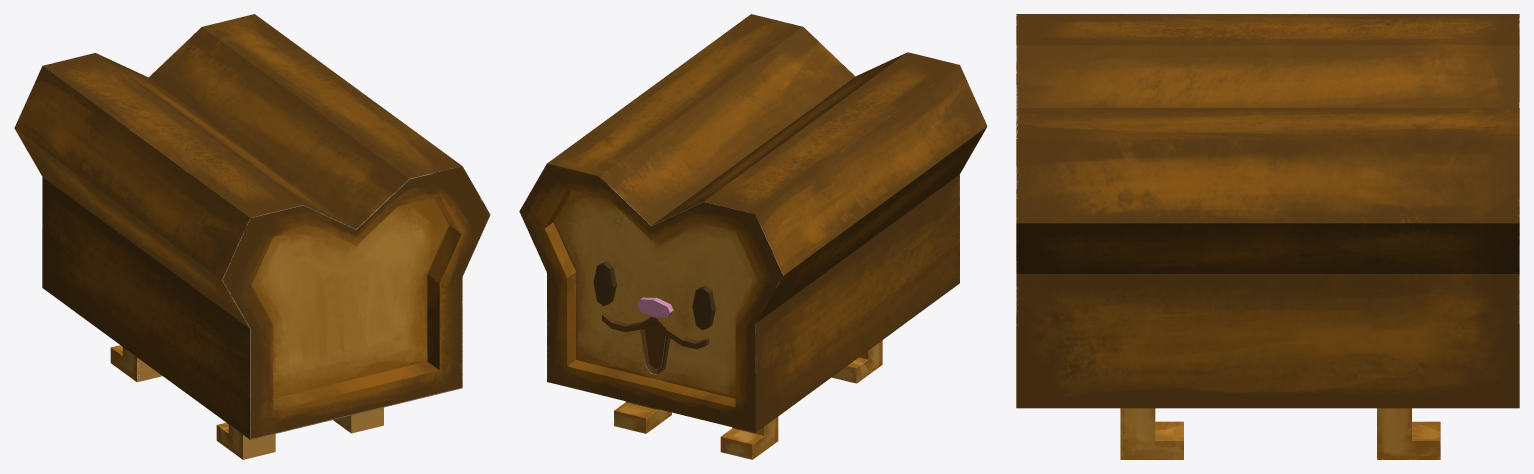
File: loafdog.fbx
3 views of the same model, side by side, from view 1: azimuth 30°, elevation 25°; view 2: azimuth 150°, elevation 25°; view 3: azimuth 270°, elevation 25° (orthographic). The views are drawn at different scales.
Visible parts, largest first — view 1: Bread, Legs; view 2: Bread, Legs, Mouth, Eyes, Nose; view 3: Bread, Legs.
Boxes of the visible parts, x1,y1,x2,y2 form: Bread: (14, 14, 490, 439); Legs: (110, 345, 383, 459); Bread: (519, 14, 987, 432); Legs: (614, 340, 882, 459); Mouth: (602, 312, 709, 374); Eyes: (593, 261, 715, 330); Nose: (637, 297, 673, 317); Bread: (1016, 14, 1519, 408); Legs: (1120, 408, 1440, 459).
Bounding box in the file's own units: 253 × 254 × 339.
Materials: 5 (4 with a texture image).
